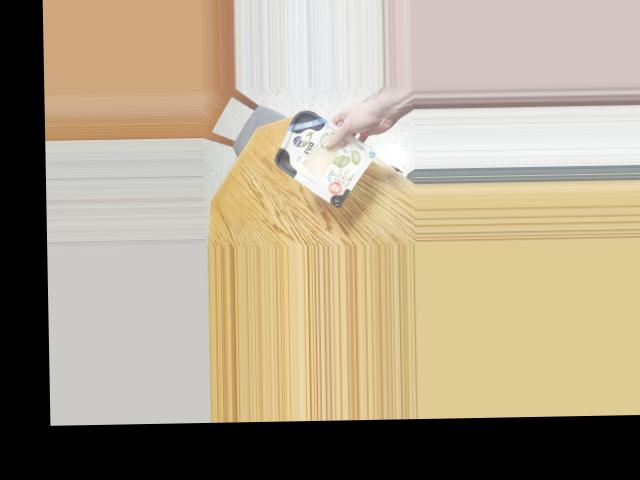cheese: (277, 103, 360, 202)
